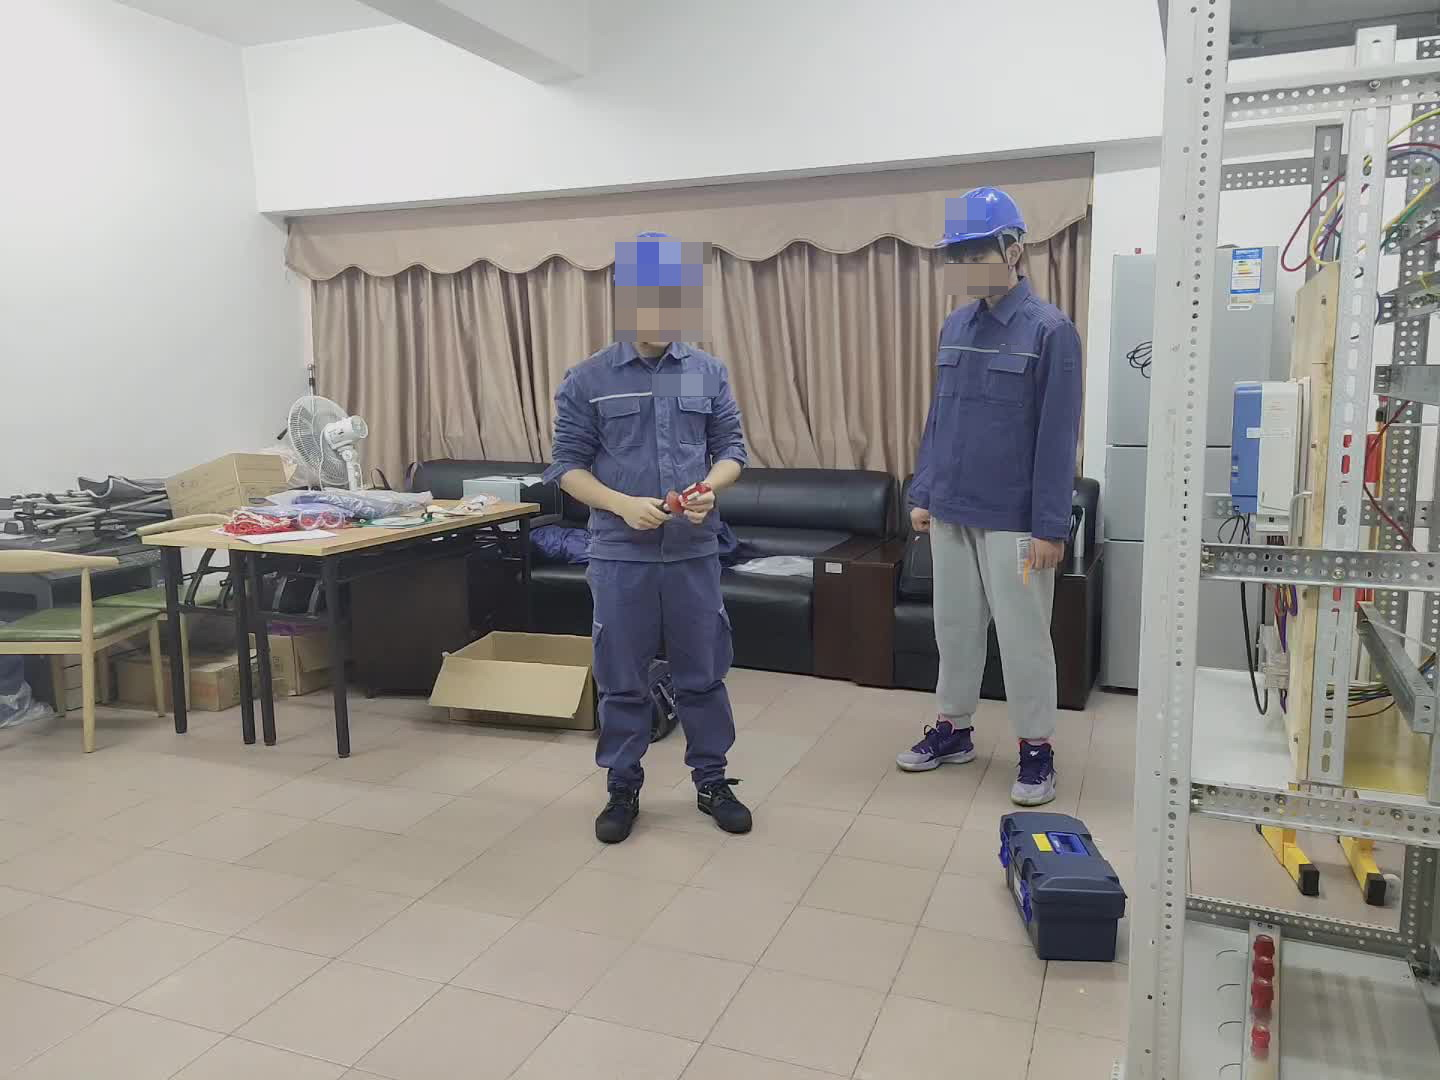downcloth: (917, 506, 1067, 746)
downsuit: (588, 574, 740, 793)
halt: (609, 229, 702, 344), (937, 185, 1032, 293)
hand: (632, 488, 672, 543), (674, 482, 719, 529), (1023, 531, 1070, 574), (903, 503, 941, 531)
inear: (988, 229, 1025, 299), (606, 275, 637, 340)
person: (539, 226, 760, 839), (894, 182, 1092, 775)
testrod: (656, 476, 712, 521)
upsuit: (906, 283, 1085, 531), (548, 334, 750, 552)
wrongtop: (541, 434, 638, 536), (693, 427, 751, 507)
